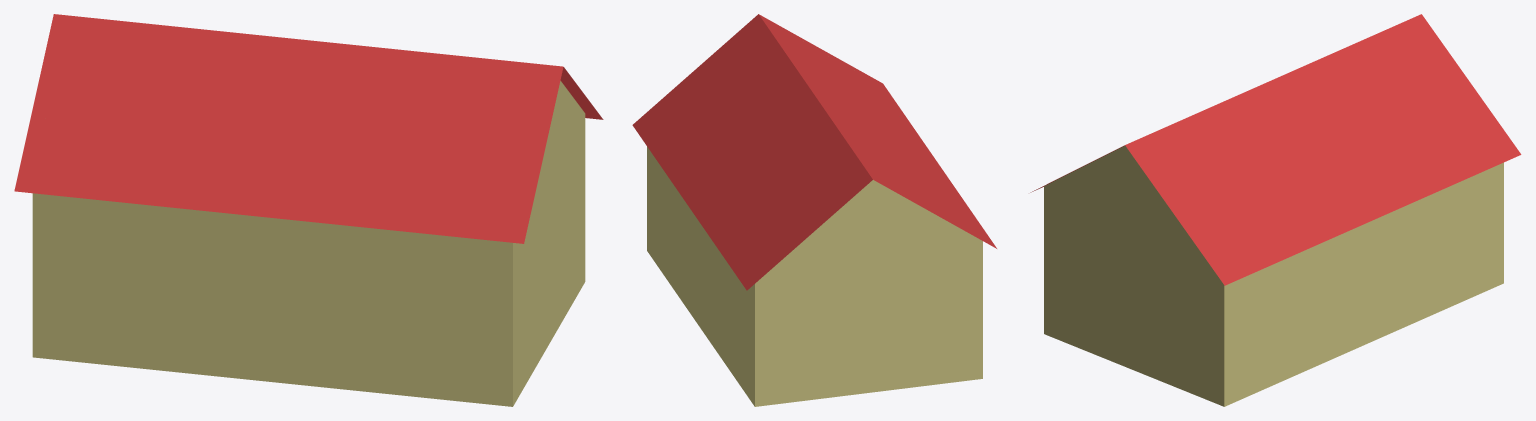
The picture shows the model from 3 angles, left to right: view 1: azimuth 30°, elevation 25°; view 2: azimuth 150°, elevation 25°; view 3: azimuth 270°, elevation 25°; orthographic projection. The views are drawn at different scales.
Size of the model in its own units: 20.23 by 20.03 by 10.22.
